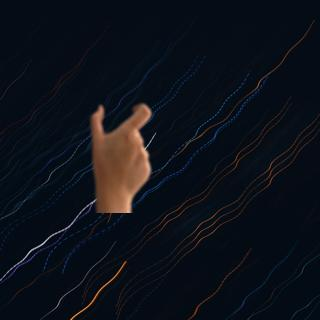HATE: (86, 98, 157, 204)
